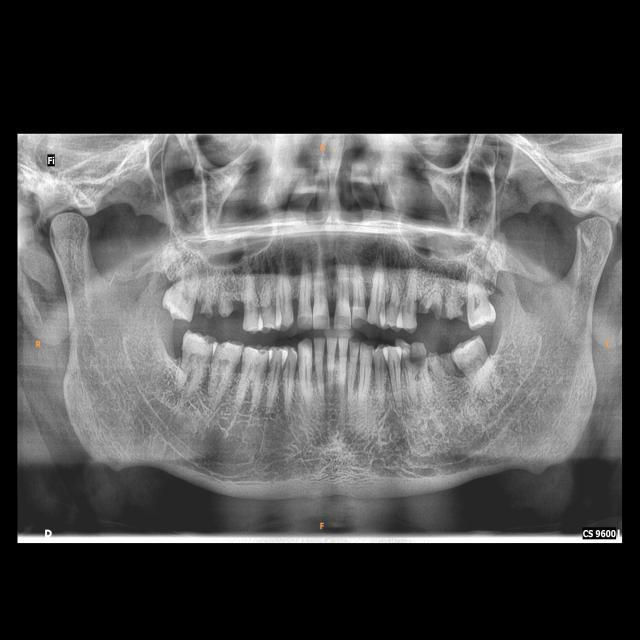dentin-curugu: (400, 337, 430, 377)
kirik: (418, 284, 444, 326), (428, 341, 455, 381), (442, 283, 466, 328), (216, 290, 237, 324), (198, 290, 218, 323)
